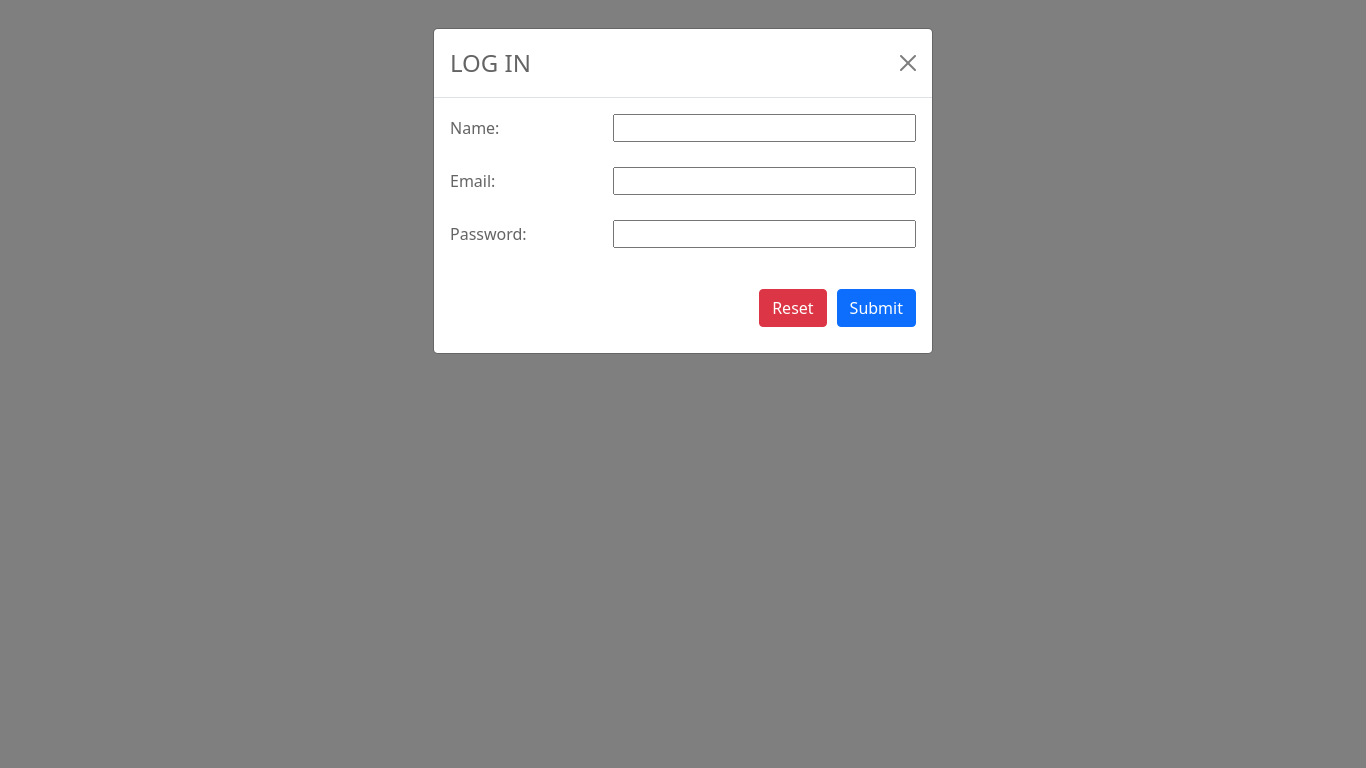
it: Test ModalLogin component › should reset fields then click btn
Type "6227968@gmail.com" into the field with test id "email".
click(765, 181); type("6227968@gmail.com")  # box [613,167,916,195]
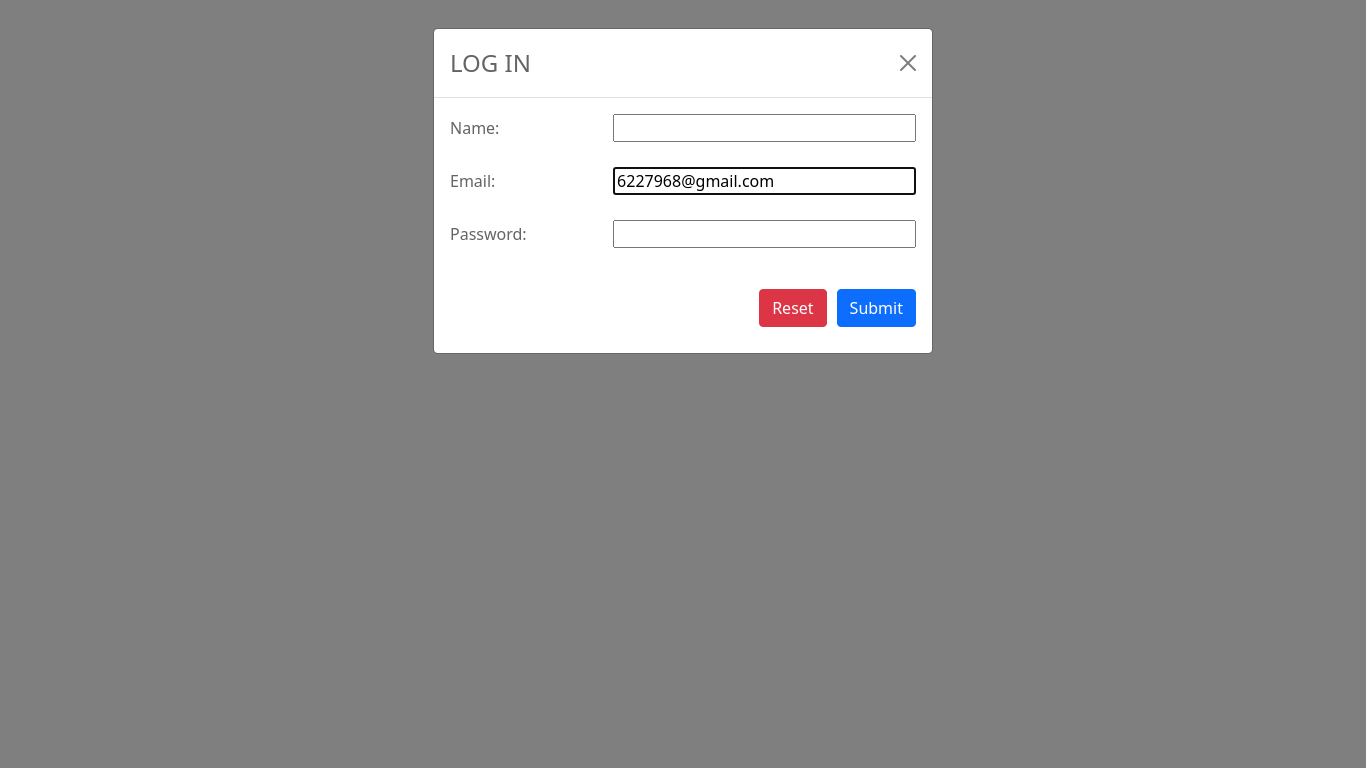
Type "111" into the field with test id "password".
click(765, 234); type("111")  # box [613,220,916,248]
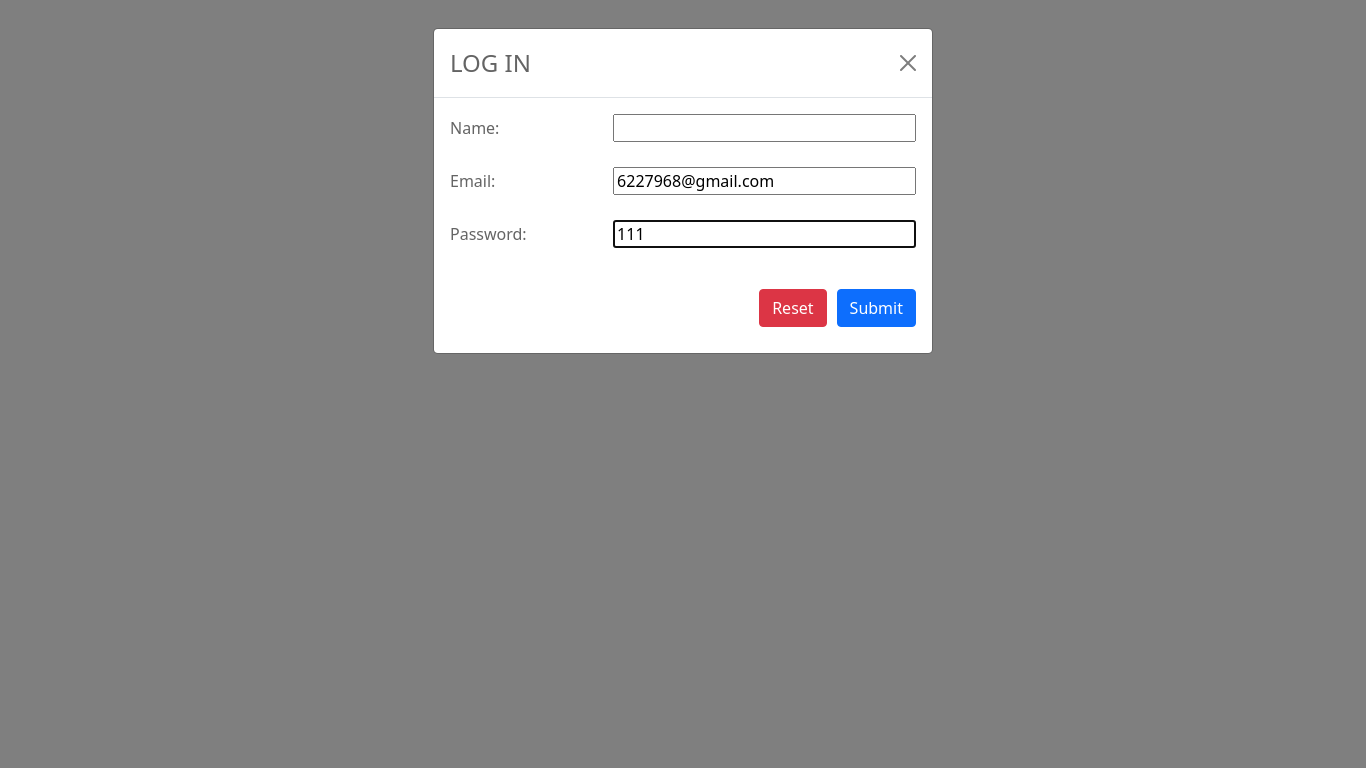
Click the button "Reset".
click(793, 308)  # box [759,289,827,327]
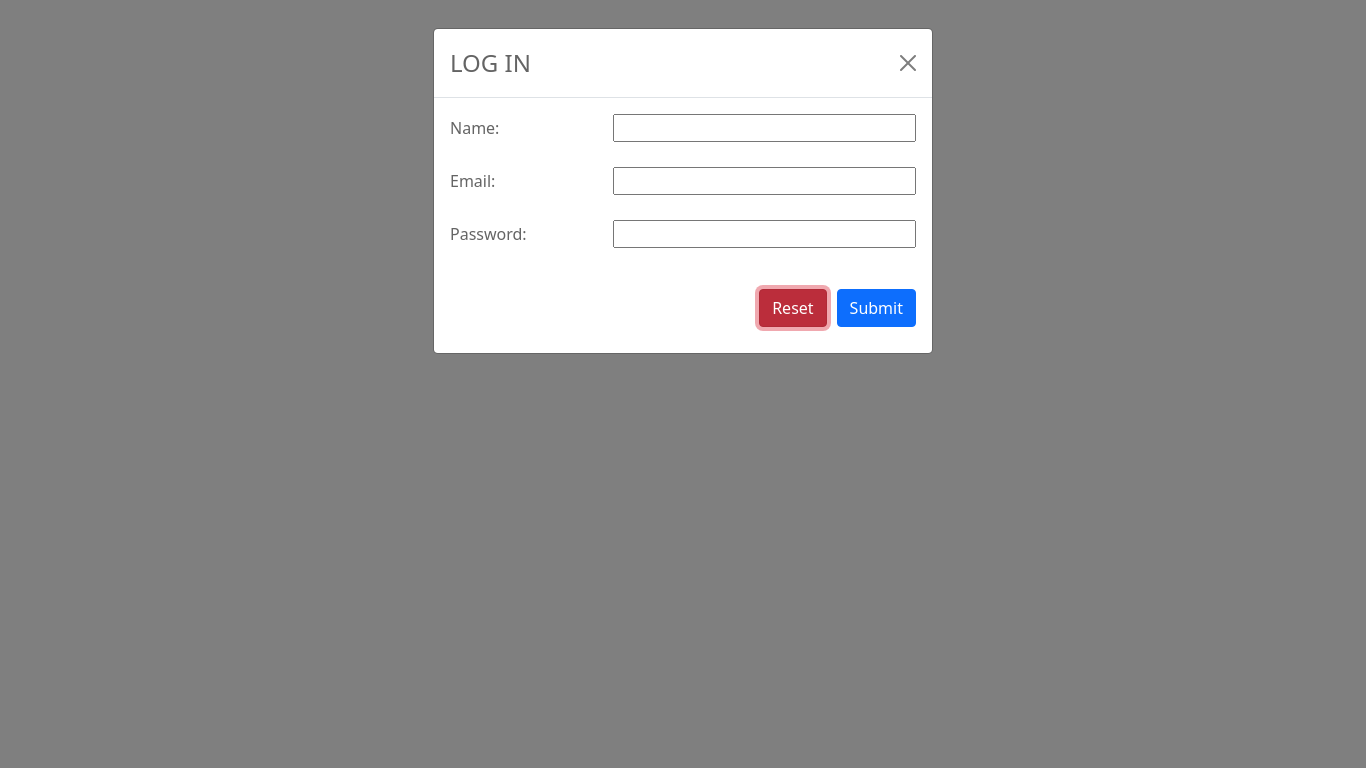
Expected: the field with test id "password" is empty, [613,220,916,248]
Expected: the field with test id "email" is empty, [613,167,916,195]
